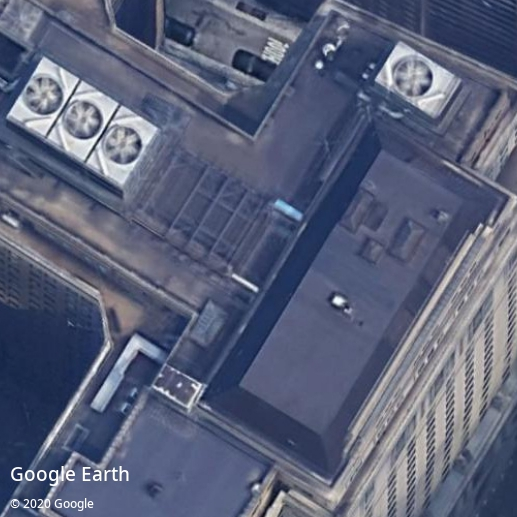Vent: (394, 58, 433, 98), (24, 76, 63, 115), (64, 102, 103, 140), (104, 126, 142, 164)
